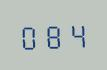eight: (42, 20, 64, 49)
four: (65, 19, 87, 48)
zero: (18, 21, 40, 50)
